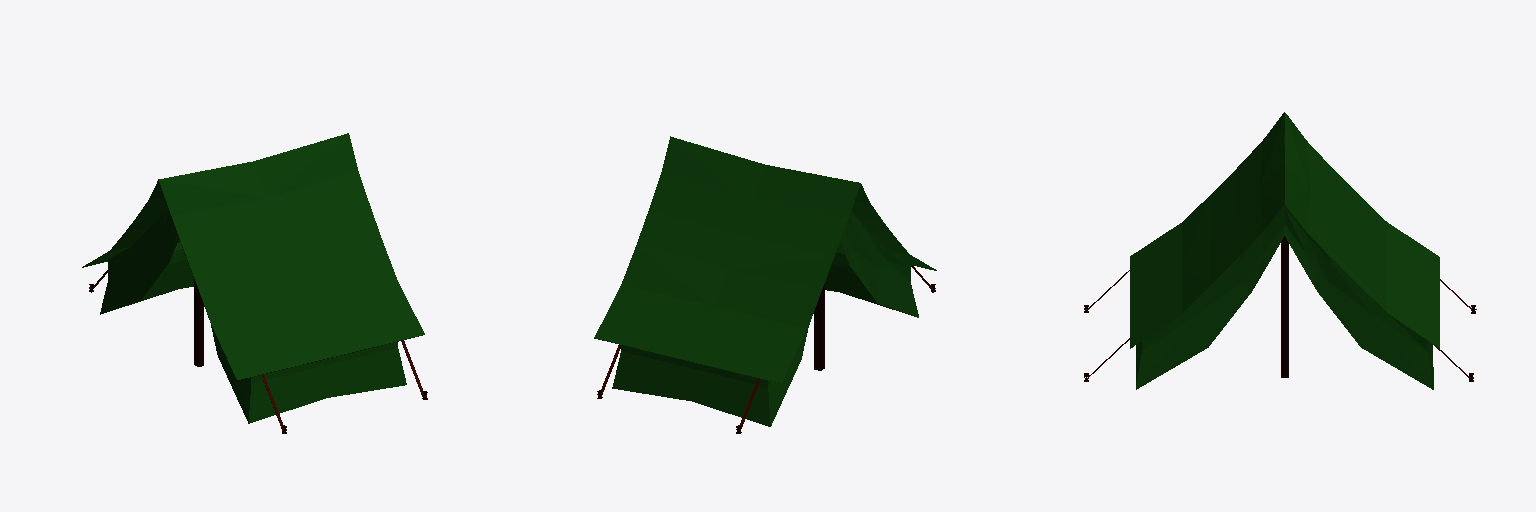
File: TentModel.obj
The picture shows the model from 3 angles: view 1: azimuth 30°, elevation 25°; view 2: azimuth 150°, elevation 25°; view 3: azimuth 270°, elevation 25°; orthographic projection.
Parts seen in each view (by area): view 1: Plane, Plane.001, Cube.005; view 2: Plane, Plane.001, Cube.005; view 3: Plane, Plane.001, Cube.006.
Boxes of the visible parts, x1,y1,x2,y2 form: Plane: [82, 133, 424, 380]; Plane.001: [100, 208, 406, 423]; Cube.005: [194, 280, 203, 366]; Plane: [594, 136, 936, 383]; Plane.001: [612, 211, 918, 426]; Cube.005: [814, 284, 824, 370]; Plane: [1130, 112, 1439, 348]; Plane.001: [1136, 206, 1433, 389]; Cube.006: [1281, 236, 1288, 377].
Bounding box in the file's own units: 2.47 × 2.42 × 4.41.